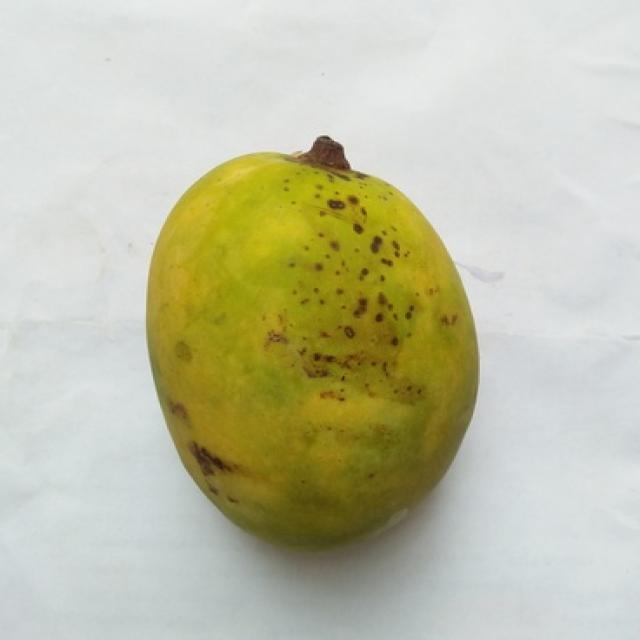Mango: (146, 143, 477, 546)
